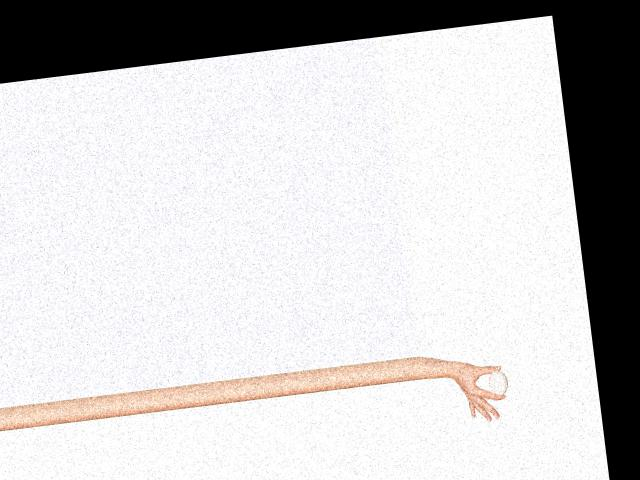egg: (487, 369, 510, 396)
